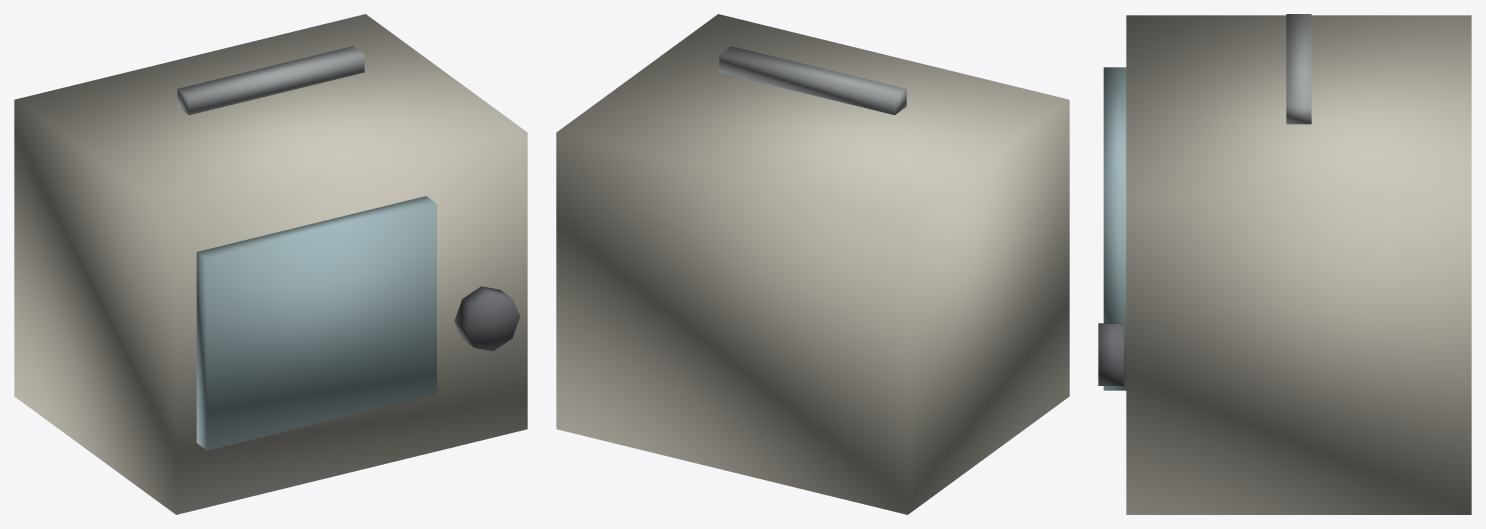
The model's file is portable_television__deep.glb.
3 views of the same model, side by side, from view 1: azimuth 30°, elevation 25°; view 2: azimuth 150°, elevation 25°; view 3: azimuth 270°, elevation 25° (orthographic). The views are drawn at different scales.
Parts seen in each view (by area): view 1: world; view 2: world; view 3: world.
Part boxes in pixels (x1,y1,x2,y2): world: [14, 14, 527, 514]; world: [556, 14, 1069, 514]; world: [1098, 14, 1471, 514].
Size of the model in its own units: 0.52 by 0.4825 by 0.4484.
